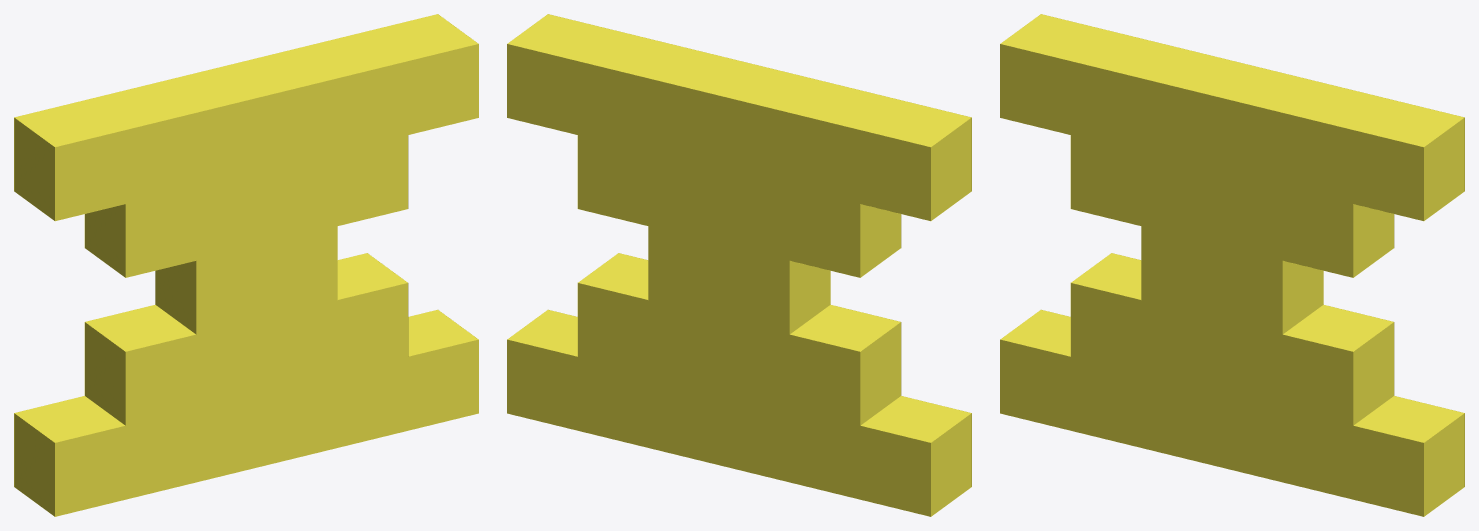
The model's file is Chronomancer Back-transparent.obj.
3 views of the same model, side by side, from view 1: azimuth 30°, elevation 25°; view 2: azimuth 150°, elevation 25°; view 3: azimuth 330°, elevation 25° (orthographic).
Visible parts, largest first — view 1: Chronomancer Back-transparent; view 2: Chronomancer Back-transparent; view 3: Chronomancer Back-transparent.
Part boxes in pixels (box(x1,y1,x2,y2)): Chronomancer Back-transparent: box(14, 14, 478, 516); Chronomancer Back-transparent: box(507, 14, 971, 516); Chronomancer Back-transparent: box(1000, 14, 1464, 516).
Size of the model in its own units: 6 by 5 by 1.
Materials: 1 (1 with a texture image).
